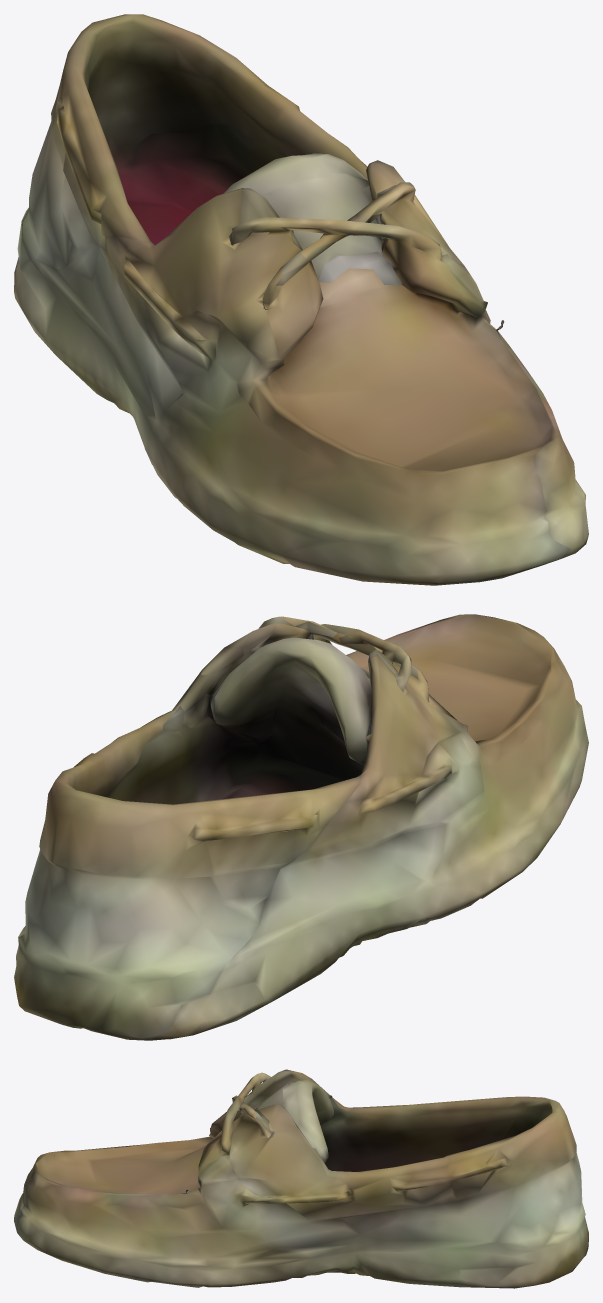
The model's file is Womens_Bluefish_2Eye_Boat_Shoe_in_Linen_Natural_Sparkle_Suede_w34KNQ41csH-medium.glb.
The picture shows the model from 3 angles, top to bottom: view 1: azimuth 30°, elevation 25°; view 2: azimuth 150°, elevation 25°; view 3: azimuth 270°, elevation 25°; orthographic projection. The views are drawn at different scales.
Visible parts, largest first — view 1: Womens_Bluefish_2Eye_Boat_Shoe_in_Linen_Natural_Sparkle_Sued; view 2: Womens_Bluefish_2Eye_Boat_Shoe_in_Linen_Natural_Sparkle_Sued; view 3: Womens_Bluefish_2Eye_Boat_Shoe_in_Linen_Natural_Sparkle_Sued.
Part boxes in pixels (x1,y1,x2,y2): Womens_Bluefish_2Eye_Boat_Shoe_in_Linen_Natural_Sparkle_Sued: [14, 14, 588, 585]; Womens_Bluefish_2Eye_Boat_Shoe_in_Linen_Natural_Sparkle_Sued: [14, 614, 588, 1040]; Womens_Bluefish_2Eye_Boat_Shoe_in_Linen_Natural_Sparkle_Sued: [14, 1069, 588, 1288].
Bounding box in the file's own units: 0.0924 × 0.0827 × 0.2496.
Materials: 1 (1 with a texture image).
